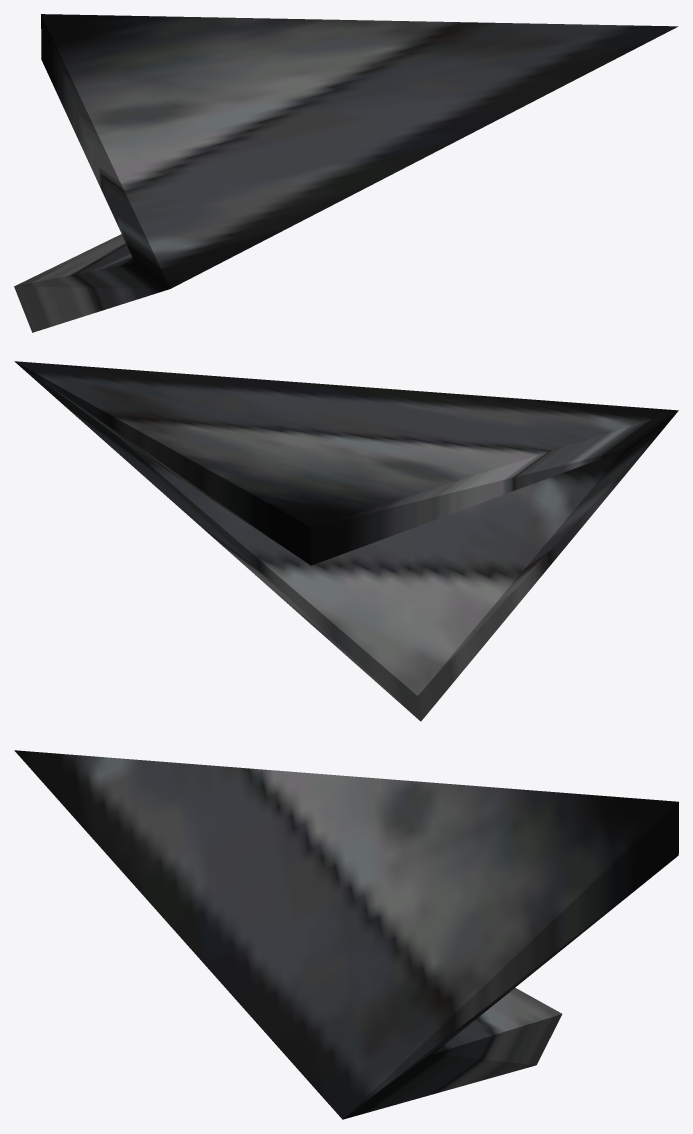
Rendered from USA - Aviation - Aurora Bomber - Damage State 3 - AVAurora_D3.glb.
The picture shows the model from 3 angles, top to bottom: view 1: azimuth 30°, elevation 25°; view 2: azimuth 150°, elevation 25°; view 3: azimuth 270°, elevation 25°; orthographic projection. The views are drawn at different scales.
Visible parts, largest first — view 1: AVAURORA_D3; view 2: AVAURORA_D3; view 3: AVAURORA_D3.
Part boxes in pixels (x1,y1,x2,y2): AVAURORA_D3: [14, 14, 678, 332]; AVAURORA_D3: [14, 361, 678, 721]; AVAURORA_D3: [14, 750, 678, 1119].
Bounding box in the file's own units: 7.31 × 2.78 × 5.51.
1 material, 1 textured.
